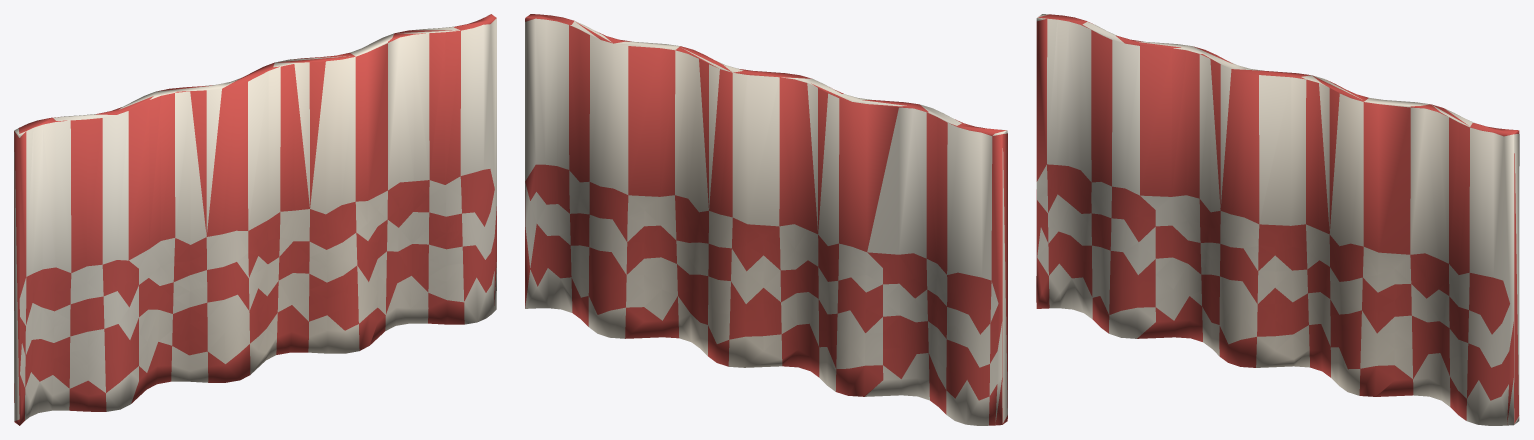
File: den_bed_valance_lod1.glb
The picture shows the model from 3 angles, left to right: view 1: azimuth 30°, elevation 25°; view 2: azimuth 150°, elevation 25°; view 3: azimuth 330°, elevation 25°; orthographic projection.
Parts seen in each view (by area): view 1: den_bed_valance.001; view 2: den_bed_valance.001; view 3: den_bed_valance.001.
Boxes of the visible parts, x1,y1,x2,y2 form: den_bed_valance.001: (14,14,496,425); den_bed_valance.001: (525,14,1007,425); den_bed_valance.001: (1036,14,1519,425).
Size of the model in its own units: 12 by 7 by 0.9796.
